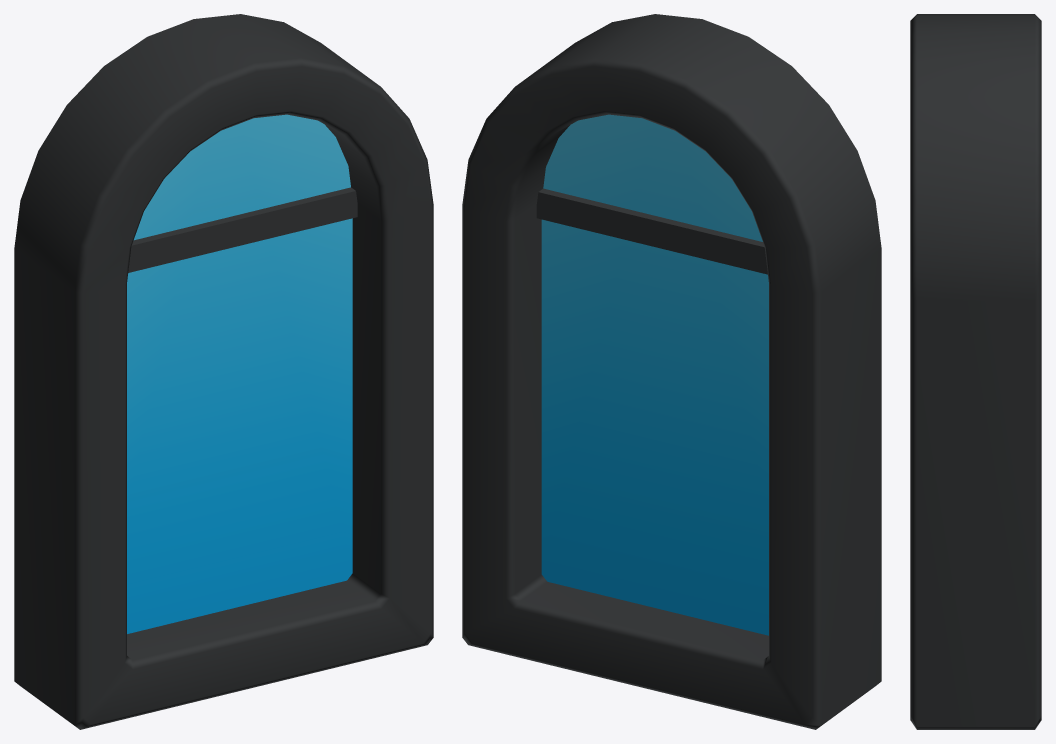
Rendered from Window_Black_18.glb.
3 views of the same model, side by side, from view 1: azimuth 30°, elevation 25°; view 2: azimuth 150°, elevation 25°; view 3: azimuth 270°, elevation 25° (orthographic).
Visible parts, largest first — view 1: Window_Black_18; view 2: Window_Black_18; view 3: Window_Black_18.
Boxes of the visible parts, box(x1,y1,x2,y2) form: Window_Black_18: box(14, 14, 433, 729); Window_Black_18: box(462, 14, 881, 729); Window_Black_18: box(910, 14, 1041, 729).
Bounding box in the file's own units: 1.24 × 2.07 × 0.4.
Materials: 2 (2 with a texture image).
